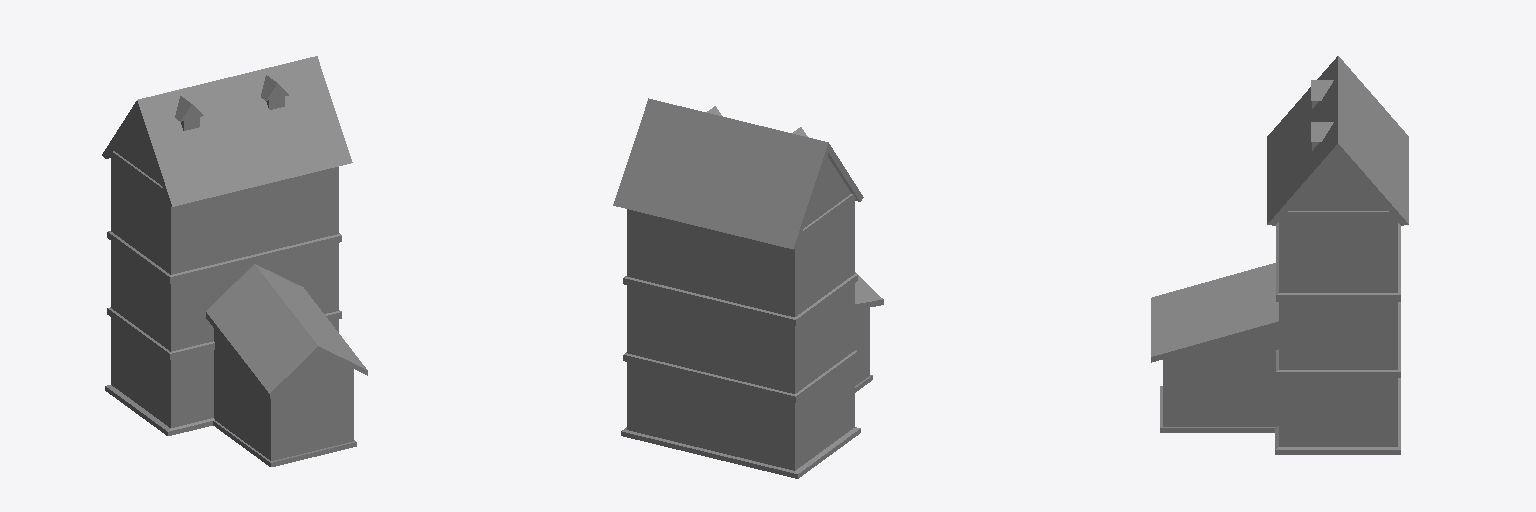
File: Hous_10_Cut.obj
The picture shows the model from 3 angles: view 1: azimuth 30°, elevation 25°; view 2: azimuth 150°, elevation 25°; view 3: azimuth 270°, elevation 25°; orthographic projection.
Parts seen in each view (by area): view 1: House10_R, House10_T; view 2: House10_R, House10_T; view 3: House10_R, House10_T.
Boxes of the visible parts, x1,y1,x2,y2 form: House10_R: [102, 56, 367, 398]; House10_T: [105, 307, 356, 466]; House10_R: [613, 98, 883, 393]; House10_T: [621, 308, 872, 478]; House10_R: [1151, 56, 1408, 369]; House10_T: [1160, 302, 1400, 454].
Size of the model in its own units: 7.04 by 11.67 by 8.71.